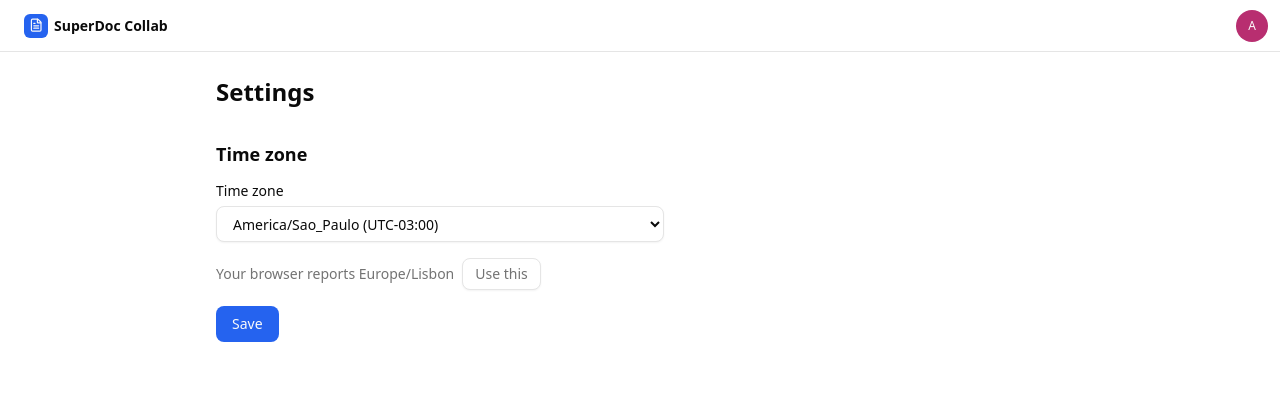
Test case: shows an inline error and keeps the selection when saving fails
Select "Asia/Tokyo (UTC+09:00)" in the dropdown labelled "Time zone". click: (440, 224)
box: [216,206,664,242]
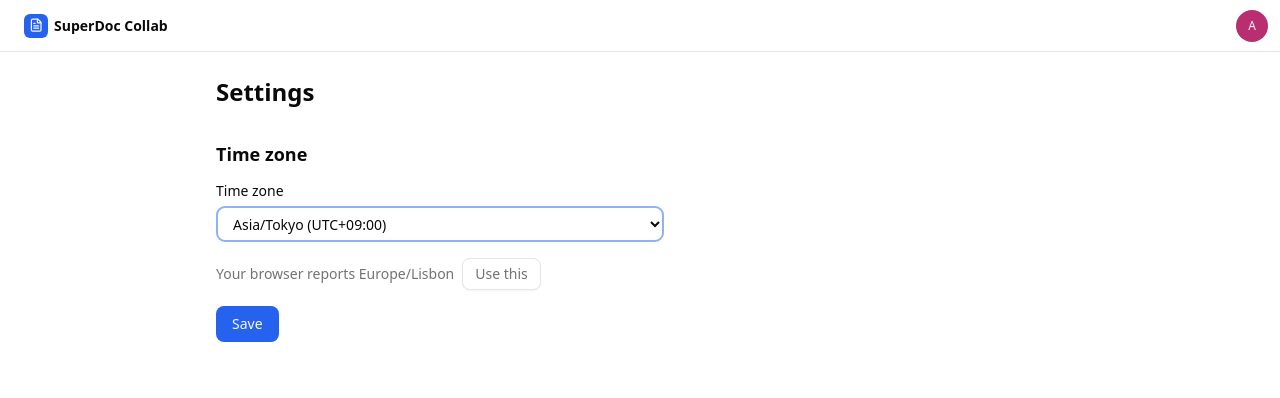
Click the button "Save". click: click(247, 324)
box: [216,306,279,342]
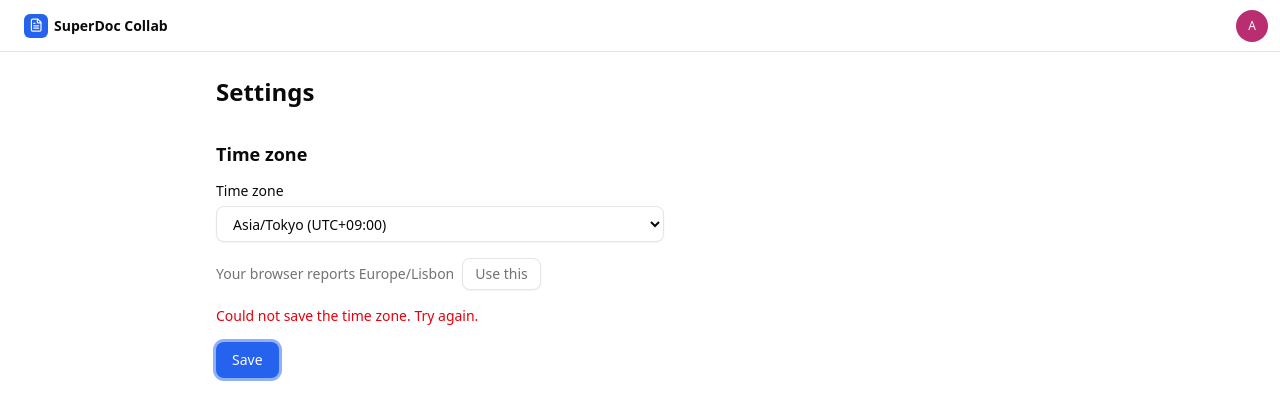
Check: the button "Save" is enabled, box [216,342,279,378]
Check: the message reads "Could not save the time zone. Try again.", box [216,306,478,325]
